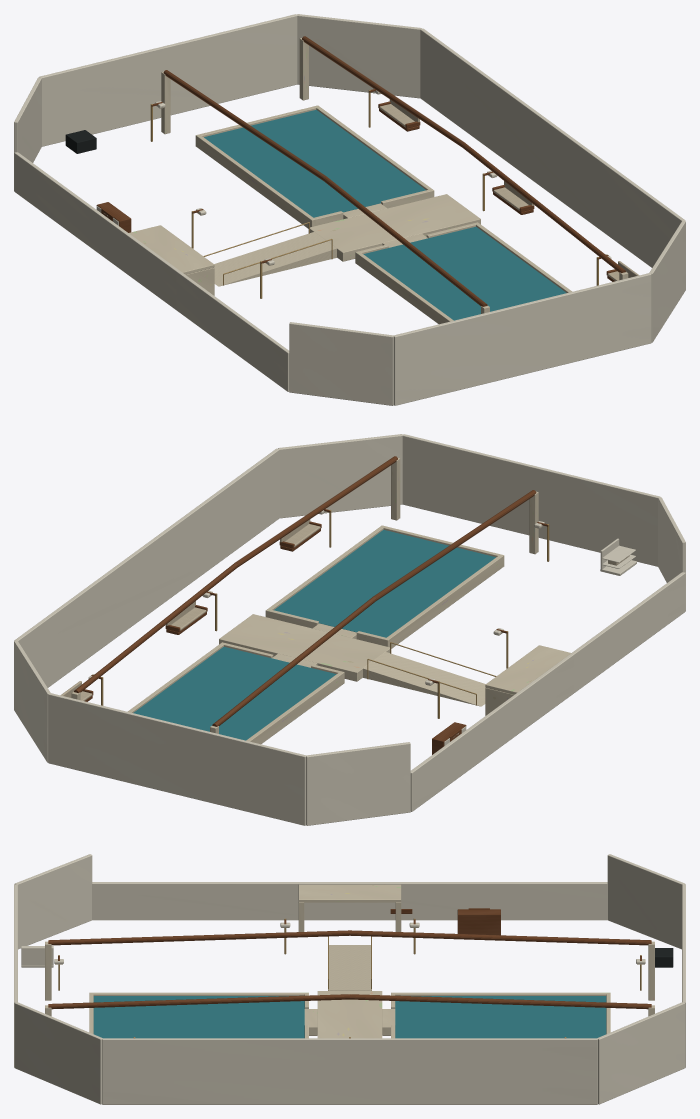
The model's file is SOL_D08_directory_02_source001.glb.
The picture shows the model from 3 angles, top to bottom: view 1: azimuth 30°, elevation 25°; view 2: azimuth 150°, elevation 25°; view 3: azimuth 270°, elevation 25°; orthographic projection. The views are drawn at different scales.
Visible parts, largest first — view 1: D08_directory_02__bathing_enclosure_5, D08_directory_02__bathing_enclosure_3, D08_directory_02__bathing_enclosure_1, D08_directory_02__static_water_surface0, D08_directory_02__static_water_surface1, D08_directory_02__bathing_enclosure_2, D08_directory_02__bathing_enclosure_6, D08_directory_02__dry_threshold_north, D08_directory_02__dry_threshold_south, D08_directory_02__wet_landing, D08_directory_02__accessible_wet_ramp, D08_directory_02__bathing_enclosure_4 (+11 smaller); view 2: D08_directory_02__bathing_enclosure_1, D08_directory_02__bathing_enclosure_3, D08_directory_02__bathing_enclosure_5, D08_directory_02__static_water_surface1, D08_directory_02__static_water_surface0, D08_directory_02__bathing_enclosure_4, D08_directory_02__bathing_enclosure_0, D08_directory_02__dry_threshold_north, D08_directory_02__dry_threshold_south, D08_directory_02__wet_landing, D08_directory_02__accessible_wet_ramp, D08_directory_02__bathing_enclosure_2 (+10 smaller); view 3: D08_directory_02__bathing_enclosure_3, D08_directory_02__dry_threshold_south, D08_directory_02__static_water_surface0, D08_directory_02__static_water_surface1, D08_directory_02__dry_threshold_north, D08_directory_02__bathing_enclosure_2, D08_directory_02__bathing_enclosure_4, D08_directory_02__bathing_enclosure_0, D08_directory_02__bathing_enclosure_6, D08_directory_02__wet_landing, D08_directory_02__wet_dry_crown, D08_directory_02__accessible_wet_ramp (+12 smaller).
Part boxes in pixels (x1,y1,x2,y2): D08_directory_02__bathing_enclosure_5: (393,273,651,405); D08_directory_02__bathing_enclosure_3: (420,28,685,267); D08_directory_02__bathing_enclosure_1: (39,14,297,146); D08_directory_02__static_water_surface0: (204,109,425,217); D08_directory_02__static_water_surface1: (363,226,566,320); D08_directory_02__bathing_enclosure_2: (297,14,421,98); D08_directory_02__bathing_enclosure_6: (289,322,393,405); D08_directory_02__dry_threshold_north: (14,152,178,309); D08_directory_02__dry_threshold_south: (130,234,289,391); D08_directory_02__wet_landing: (310,194,480,261); D08_directory_02__accessible_wet_ramp: (214,232,336,286); D08_directory_02__bathing_enclosure_4: (649,221,685,342); D08_directory_02__bathing_enclosure_1: (48,693,306,825); D08_directory_02__bathing_enclosure_3: (14,448,279,687); D08_directory_02__bathing_enclosure_5: (402,434,660,566); D08_directory_02__static_water_surface1: (274,529,495,637); D08_directory_02__static_water_surface0: (133,646,336,740); D08_directory_02__bathing_enclosure_4: (278,434,402,518); D08_directory_02__bathing_enclosure_0: (306,742,410,825); D08_directory_02__dry_threshold_north: (410,654,574,811); D08_directory_02__dry_threshold_south: (521,572,685,692); D08_directory_02__wet_landing: (219,614,389,681); D08_directory_02__accessible_wet_ramp: (363,652,485,706); D08_directory_02__bathing_enclosure_2: (14,641,50,762); D08_directory_02__bathing_enclosure_3: (102,1038,597,1104); D08_directory_02__dry_threshold_south: (92,882,397,920); D08_directory_02__static_water_surface0: (395,996,606,1038); D08_directory_02__static_water_surface1: (93,996,304,1038); D08_directory_02__dry_threshold_north: (302,882,607,920); D08_directory_02__bathing_enclosure_2: (597,1002,685,1104); D08_directory_02__bathing_enclosure_4: (14,1002,102,1104); D08_directory_02__bathing_enclosure_0: (607,854,684,949); D08_directory_02__bathing_enclosure_6: (15,854,92,949); D08_directory_02__wet_landing: (317,991,382,1038); D08_directory_02__wet_dry_crown: (298,884,401,902); D08_directory_02__accessible_wet_ramp: (328,945,371,990).
Bounding box in the file's own units: 40.86 × 7.05 × 62.36.
Materials: 7 (6 with a texture image).
